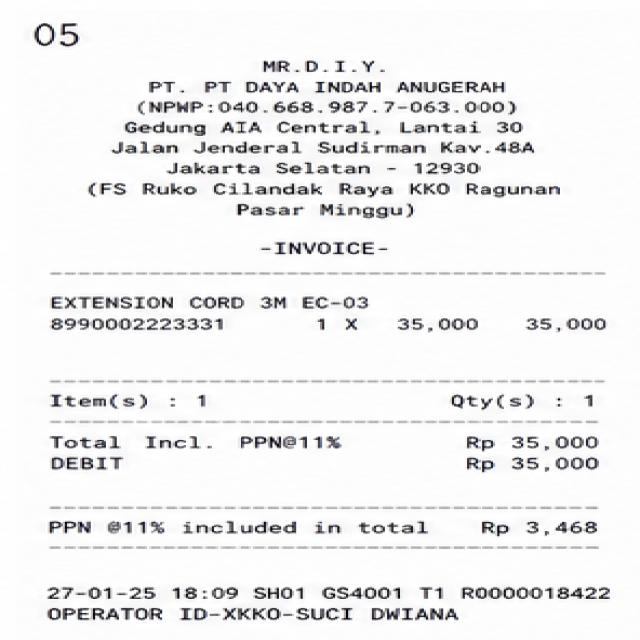date: (43, 583, 251, 606)
store: (258, 56, 387, 78)
total: (49, 428, 611, 452)
